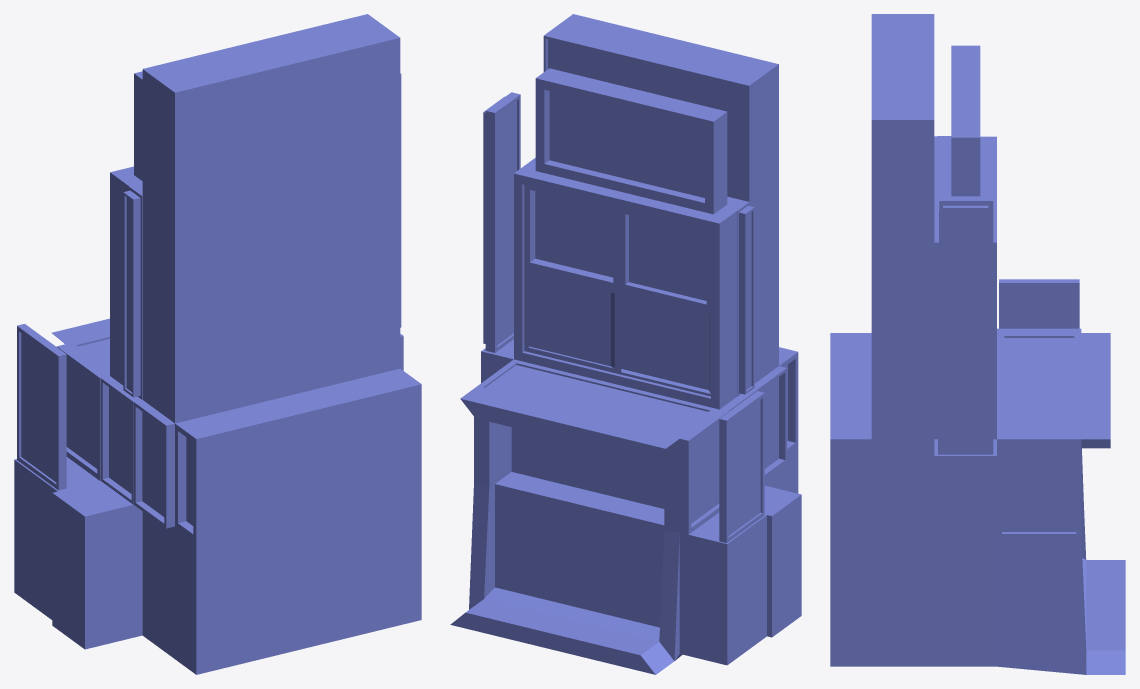
The model's file is Sofa.fbx.
The picture shows the model from 3 angles, left to right: view 1: azimuth 30°, elevation 25°; view 2: azimuth 150°, elevation 25°; view 3: azimuth 270°, elevation 25°; orthographic projection. The views are drawn at different scales.
Parts seen in each view (by area): view 1: Cube; view 2: Cube; view 3: Cube.
Part boxes in pixels (bbox=[...]): Cube: bbox=[14, 14, 421, 674]; Cube: bbox=[450, 14, 801, 674]; Cube: bbox=[830, 14, 1125, 674].
Size of the model in its own units: 285 by 487 by 235.
